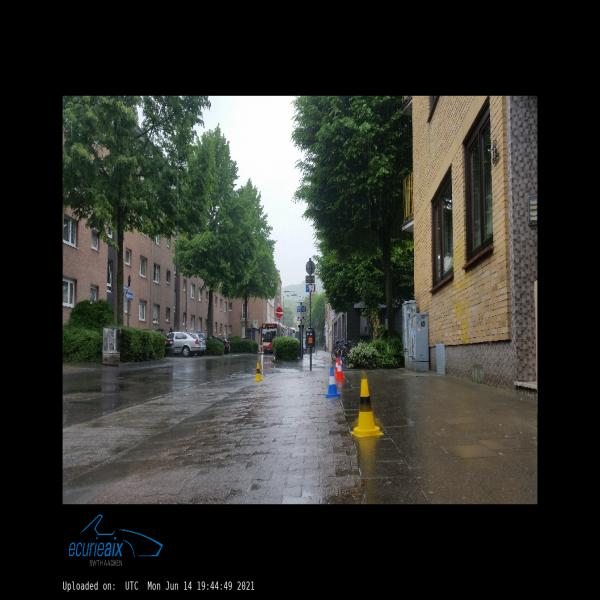blue_cone: (325, 366, 341, 398), (340, 356, 344, 370)
orange_cone: (335, 360, 345, 380), (334, 358, 338, 373)
yellow_cone: (351, 379, 383, 437), (254, 363, 263, 381)
